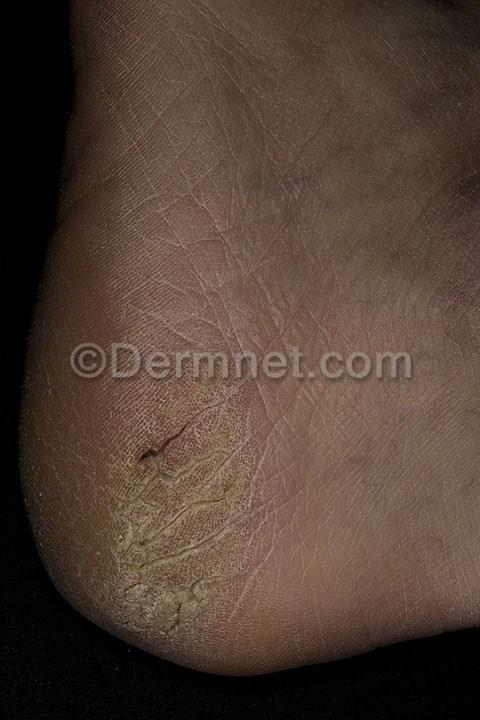Eczema: (43, 399, 314, 634)
